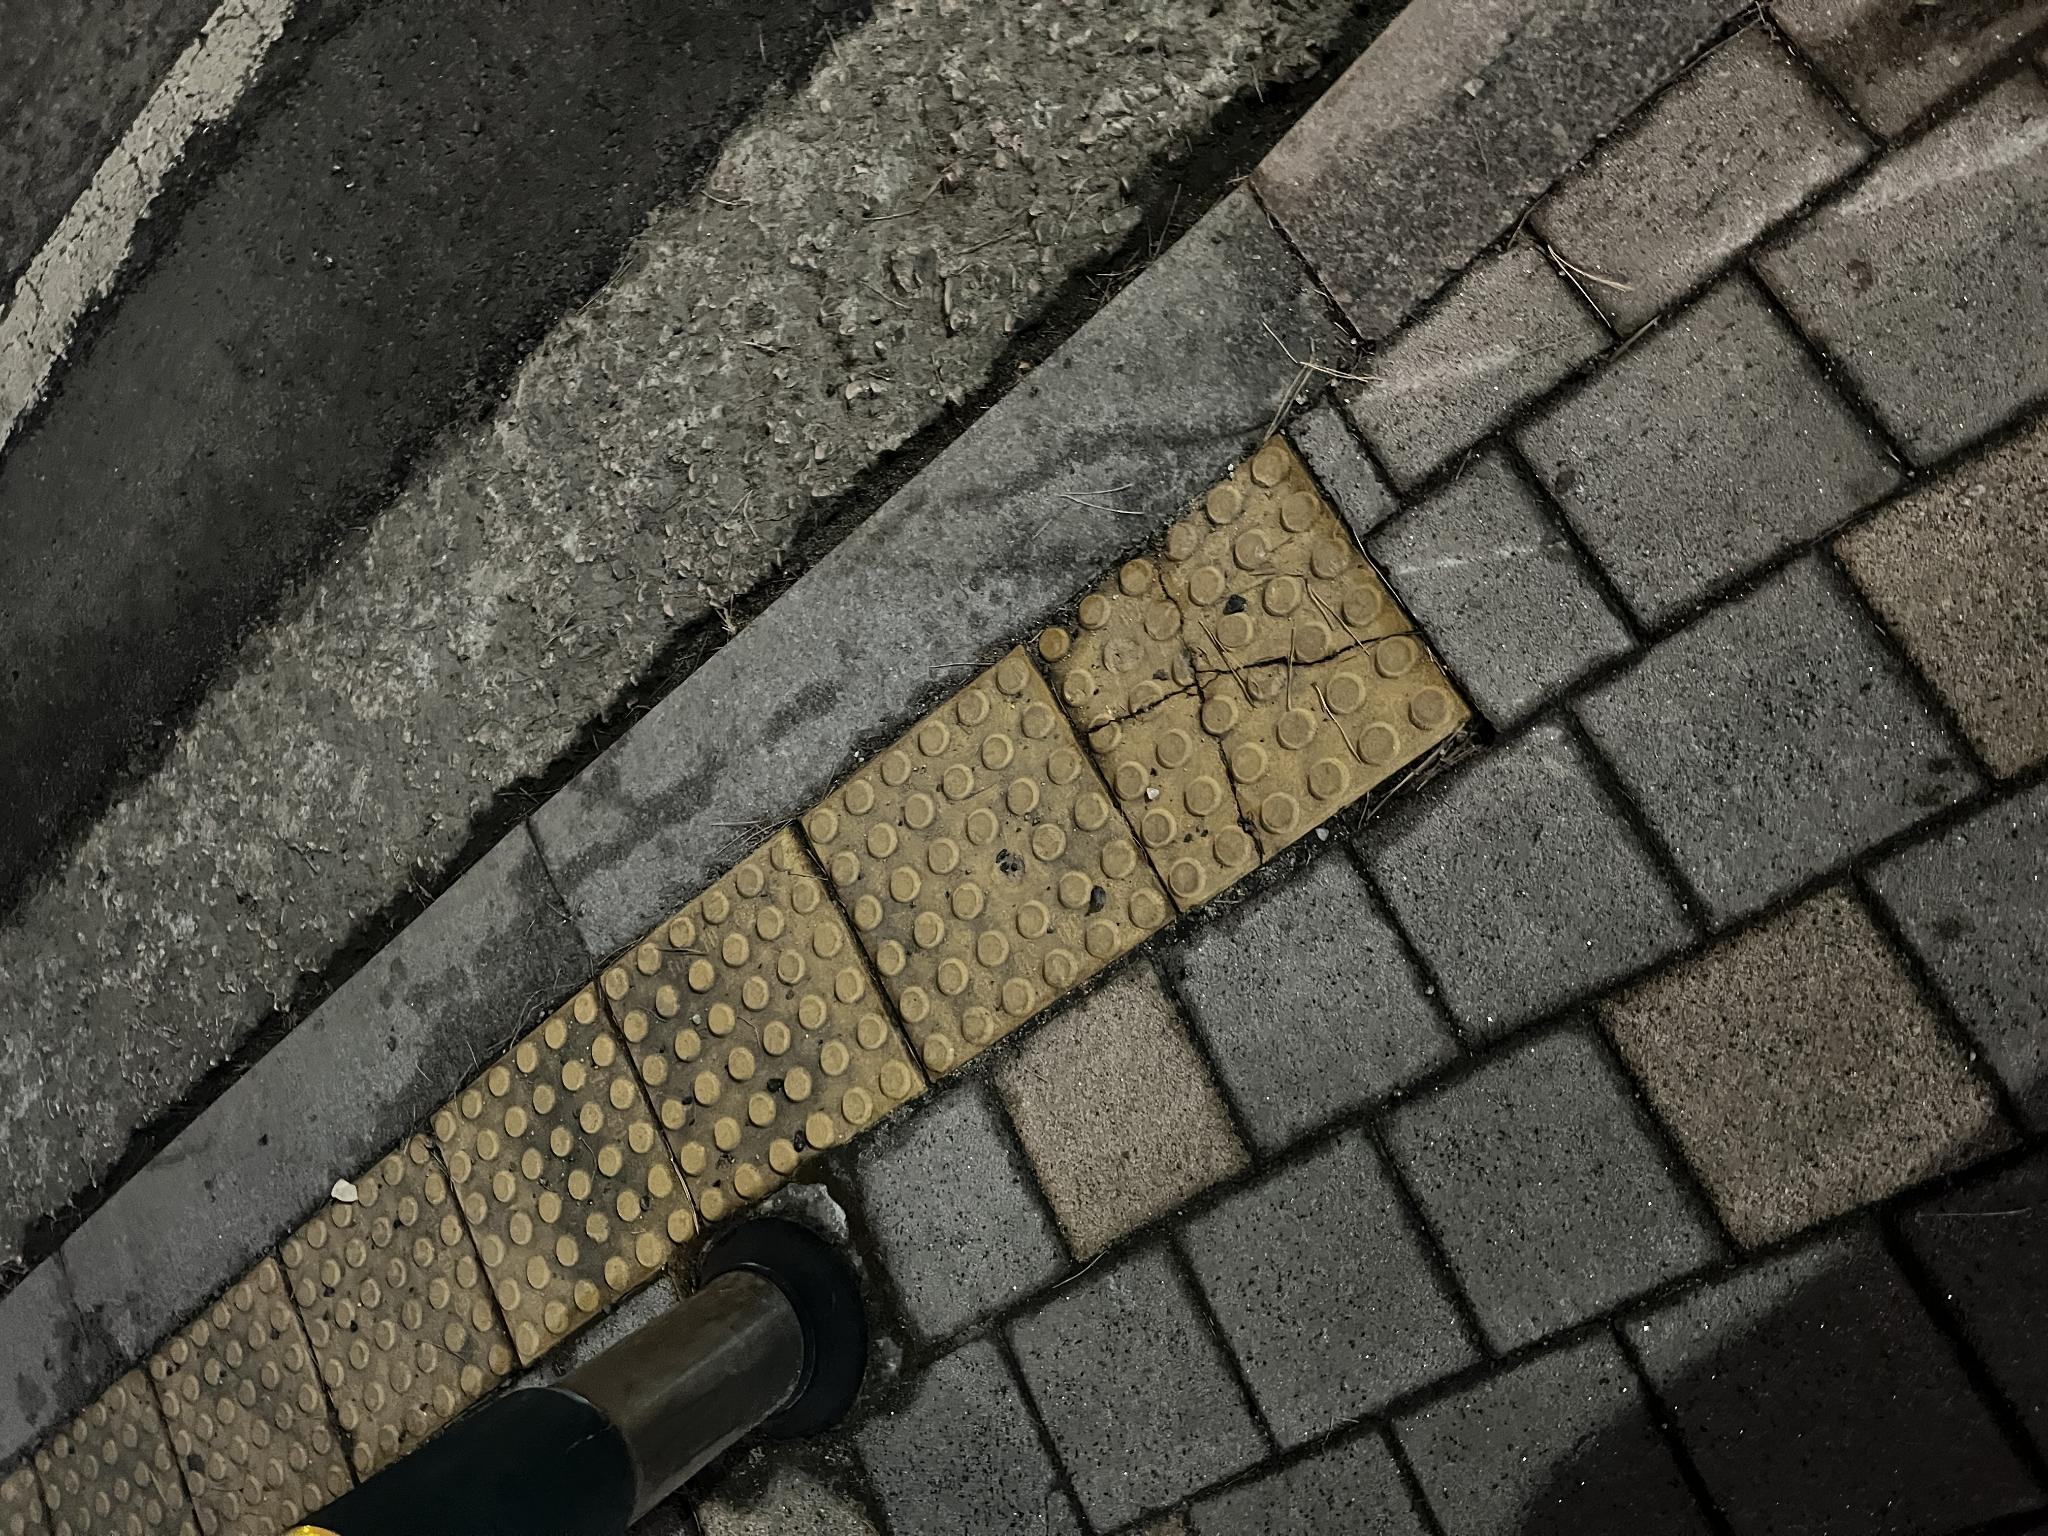Stop block broken: (627, 1033, 1101, 1471)
Stop block normal: (456, 803, 887, 1171), (313, 597, 708, 921), (173, 431, 552, 695), (56, 281, 408, 516)
